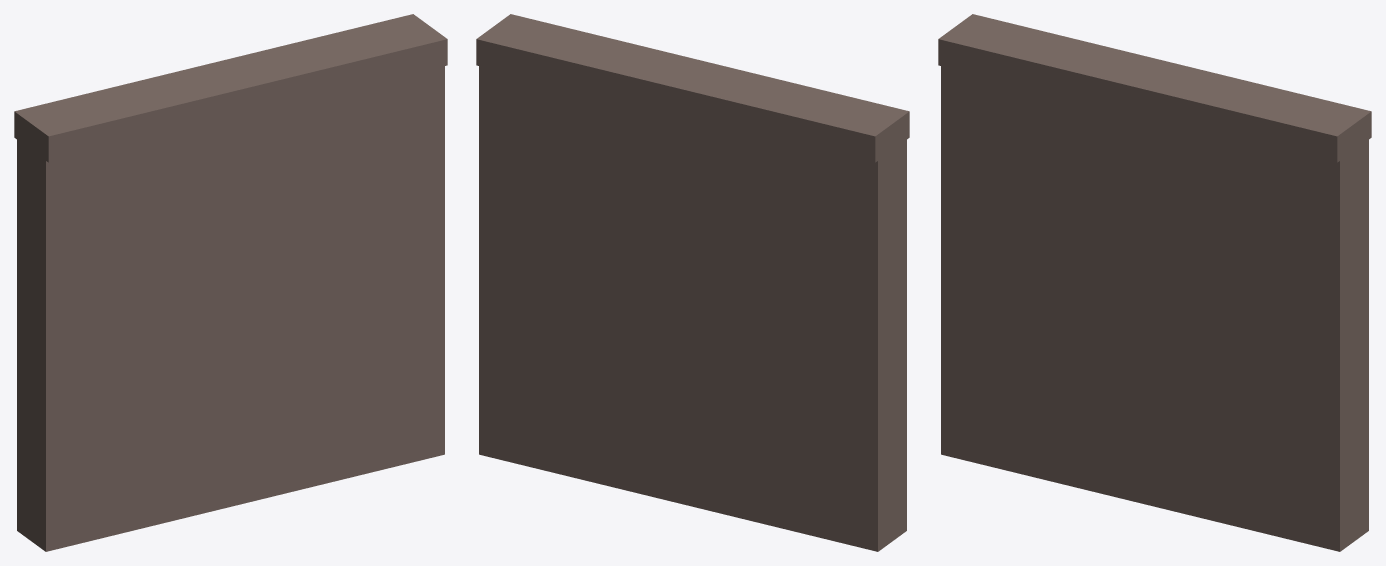
File: Village_Wall_Stone_2m_A.fbx
3 views of the same model, side by side, from view 1: azimuth 30°, elevation 25°; view 2: azimuth 150°, elevation 25°; view 3: azimuth 330°, elevation 25° (orthographic).
Parts seen in each view (by area): view 1: Village_Wall_2m_Stone_A; view 2: Village_Wall_2m_Stone_A; view 3: Village_Wall_2m_Stone_A.
Part boxes in pixels (x1=…): Village_Wall_2m_Stone_A: x1=14, y1=14, x2=447, y2=551; Village_Wall_2m_Stone_A: x1=476, y1=14, x2=909, y2=551; Village_Wall_2m_Stone_A: x1=938, y1=14, x2=1371, y2=551.
Bounding box in the file's own units: 200 × 200 × 29.81.
